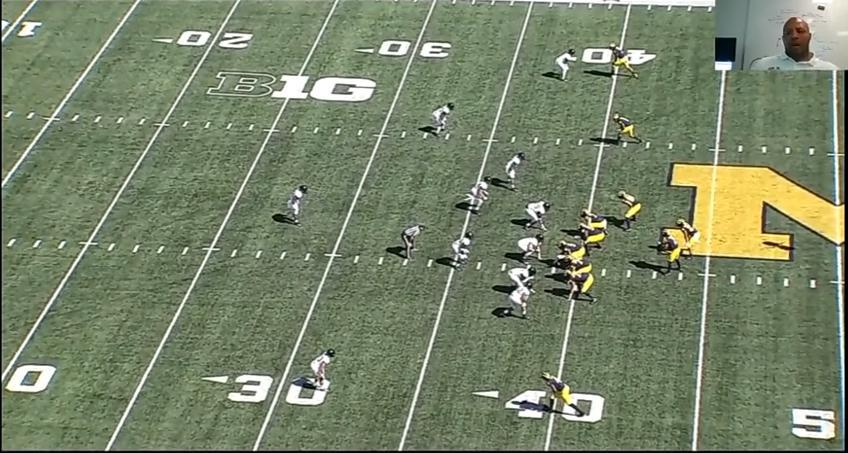center: (554, 241, 581, 264)
db: (309, 349, 336, 394), (291, 184, 307, 222), (431, 103, 451, 132), (556, 49, 573, 79)
lb: (448, 232, 473, 267), (464, 181, 489, 215), (504, 152, 524, 188), (510, 283, 531, 315), (762, 194, 772, 225)
qb: (663, 238, 683, 271)
skill: (545, 373, 577, 404), (621, 191, 639, 228), (618, 114, 642, 141), (677, 217, 695, 240)
